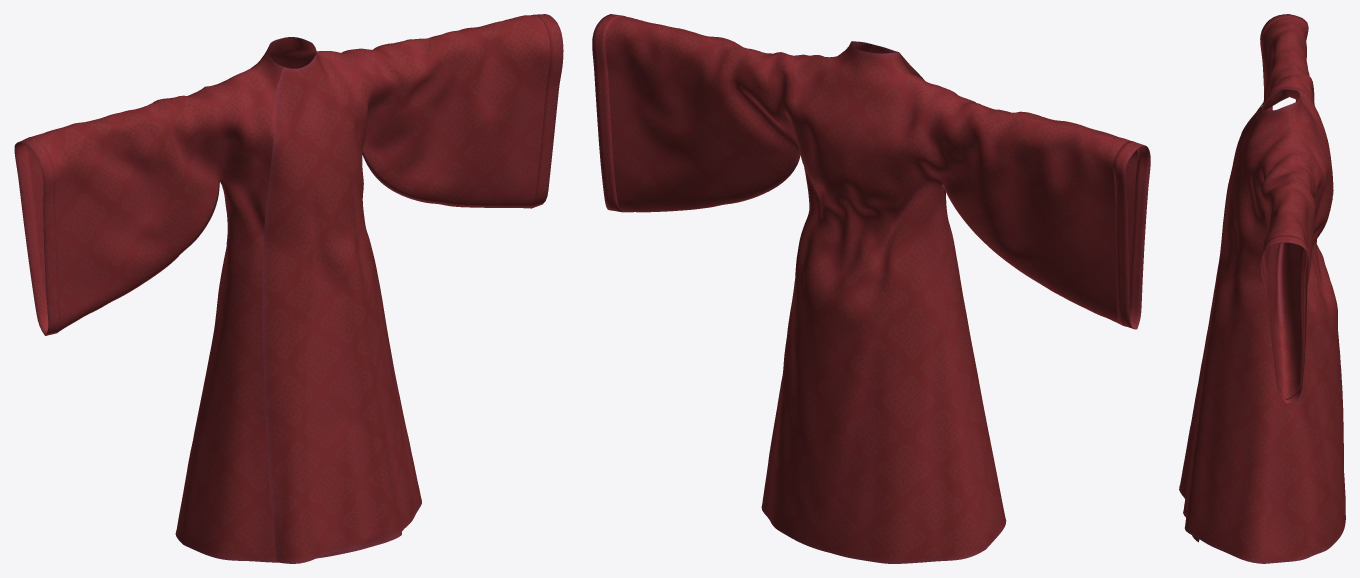
3 views of the same model, side by side, from view 1: azimuth 30°, elevation 25°; view 2: azimuth 150°, elevation 25°; view 3: azimuth 270°, elevation 25° (orthographic). The views are drawn at different scales.
Parts seen in each view (by area): view 1: SM_CL00125; view 2: SM_CL00125; view 3: SM_CL00125.
Part boxes in pixels (x1,y1,x2,y2): SM_CL00125: (14,14,563,563); SM_CL00125: (592,14,1150,563); SM_CL00125: (1179,14,1345,563).
Bounding box in the file's own units: 1.73 × 1.5 × 0.5325.
Materials: 1 (1 with a texture image).
